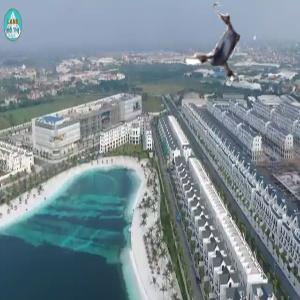drone: (175, 3, 263, 91)
